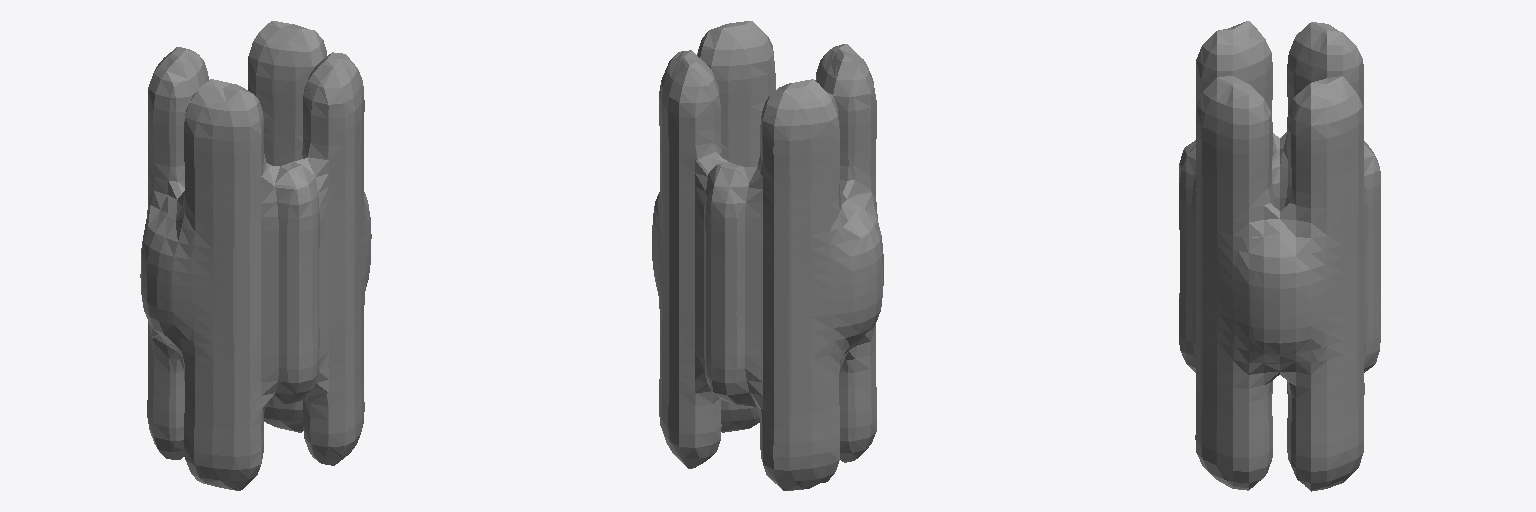
robot.urdf — cube.urdf:
<?xml version="0.0" ?> 
<robot name="cube.urdf"> 
<link name="legobrick"> 
<contact> 
<lateral_friction value="5.0"/> 
<rolling_friction value="0.0"/> 
<contact_cfm value="0.0"/> 
<contact_erp value="1.0"/> 
</contact> 
<inertial> 
<origin rpy="0 0 0" xyz="0.0 0.0 0.0"/> 
<mass value=".01"/> 
<inertia ixx="1" ixy="0" ixz="0" iyy="1" iyz="0" izz="1"/> 
</inertial> 
<visual> 
<origin rpy="1.570796 0 0" xyz="-0.0483117364072736 0.048101553377955485 -0.04819205414443073"/> 
<geometry> 
<mesh filename="U16_1.obj" scale="0.0009998514915223295 0.0009998514915223295 0.0009998514915223295"/> 
</geometry> 
<material name="yellow"> 
<color rgba="0.6 0.6 0.6 1"/> 
</material> 
</visual> 
<collision> 
<origin rpy="1.570796 0 0" xyz="-0.0483117364072736 0.048101553377955485 -0.04819205414443073"/> 
<geometry> 
<mesh filename="U16_1.obj" scale="0.0009998514915223295 0.0009998514915223295 0.0009998514915223295"/> 
</geometry> 
</collision> 
</link> 
</robot>

--- Facts derived from the render (not from the file) ---
3 views of the same robot in one strip: view 1: azimuth 30°, elevation 25°; view 2: azimuth 150°, elevation 25°; view 3: azimuth 270°, elevation 25° (orthographic).
Model cube.urdf with 1 links and 0 joints (none), rooted at legobrick, posed every joint at zero.
Visible links, largest first — view 1: legobrick; view 2: legobrick; view 3: legobrick.
Boxes of the visible links, <box> form: legobrick: <box>140,21,371,490</box>; legobrick: <box>652,21,883,490</box>; legobrick: <box>1179,21,1380,491</box>.
Bounding box of the posed robot: 0.056 × 0.0446 × 0.1 m (x, y, z).
Meshes: 1 distinct files referenced, 1 mesh visuals loaded (1 OBJ).
